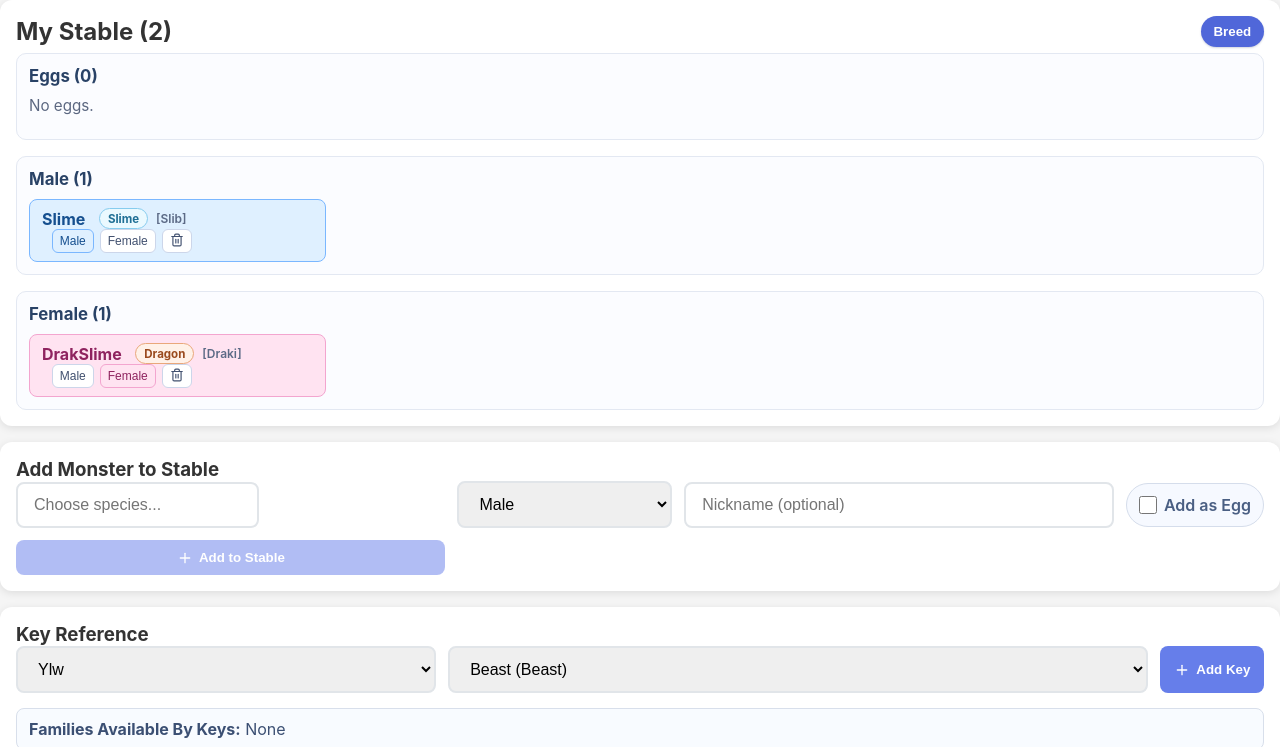
it: MonsterList key family highlighting › confirms breeding by removing parents, adding child egg, and closing the popover
Click the button "Breed".
click(1232, 32)  # box [1201, 16, 1264, 47]
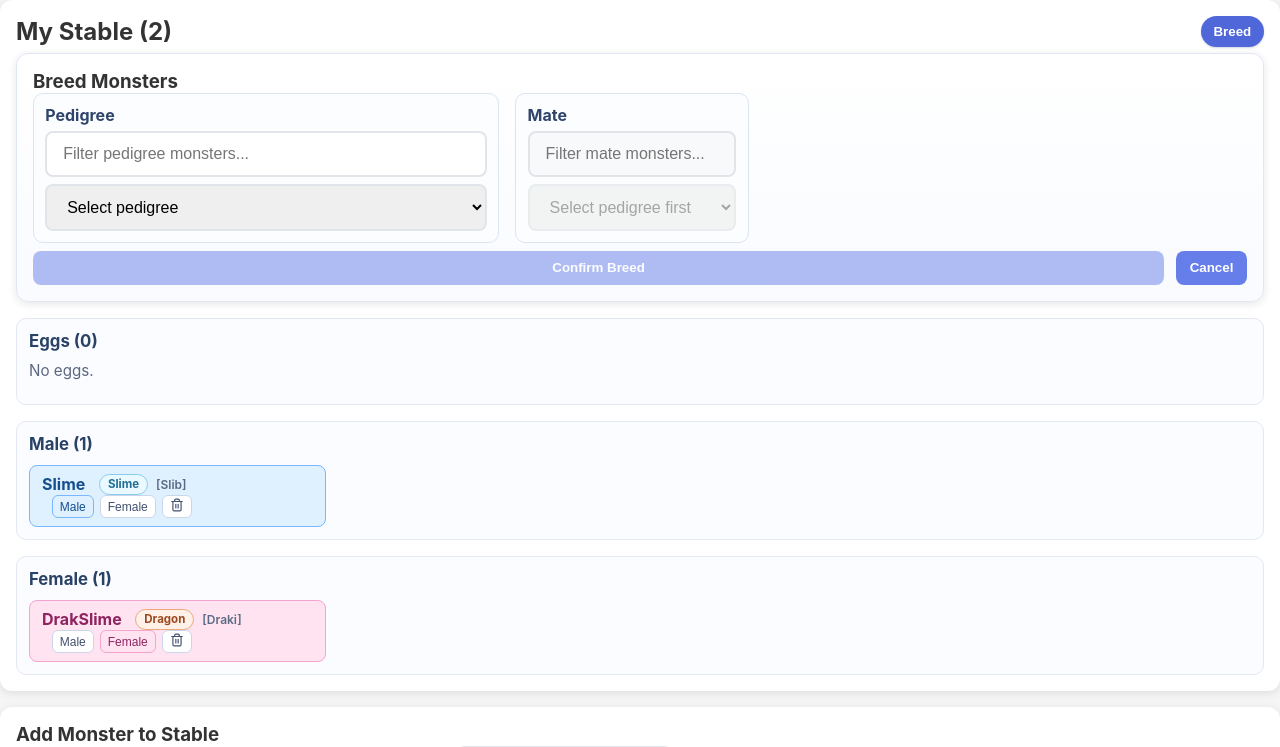
Select "Slime [Slib] (Male)" in the dropdown labelled "Pedigree" at (266, 207), box [45, 184, 487, 231]
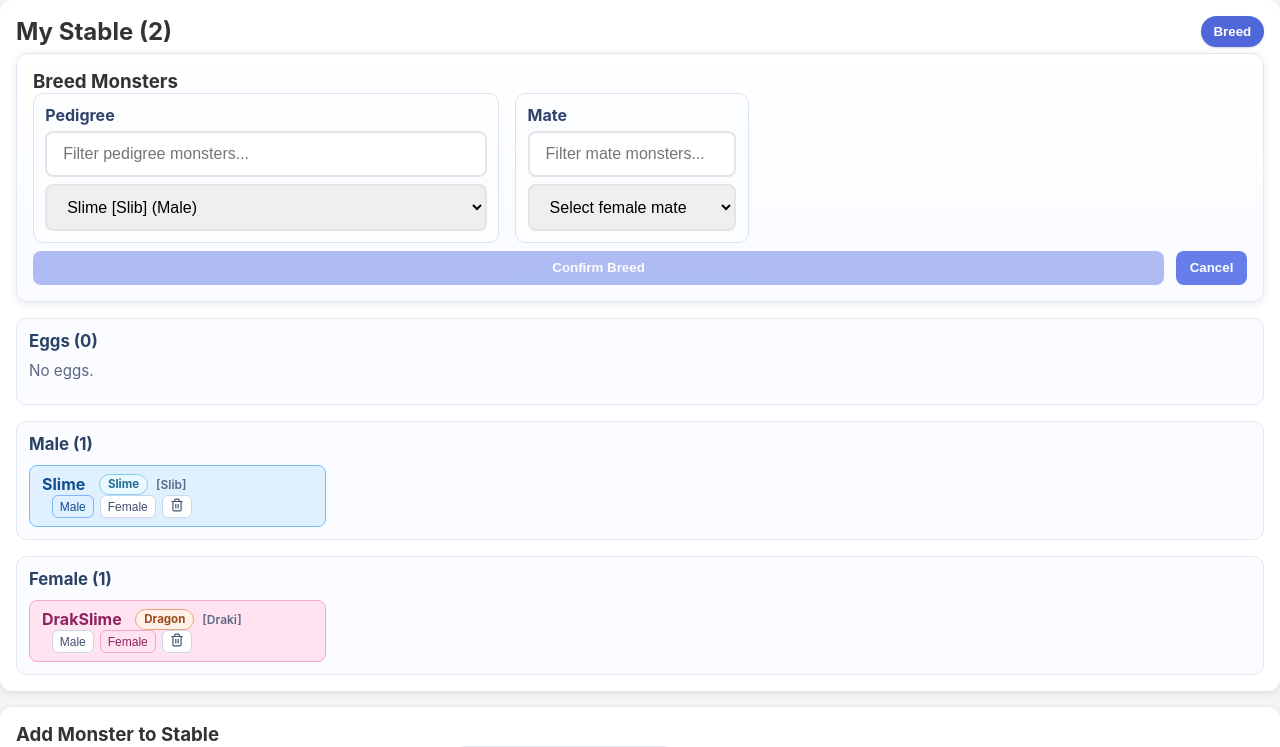
Select "DrakSlime [Draki] (Female)" in the dropdown labelled "Mate" at (632, 207), box [528, 184, 736, 231]
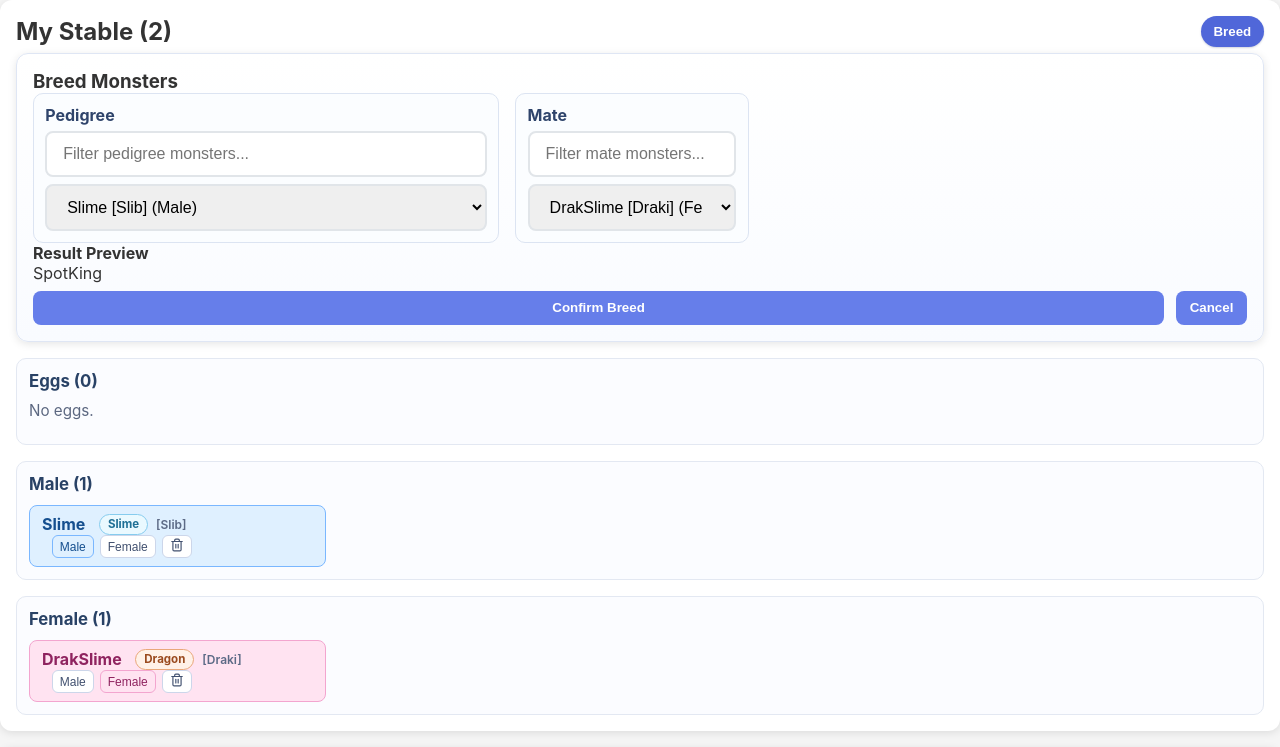
Click the button "Confirm Breed".
click(599, 308)  # box [33, 291, 1164, 325]
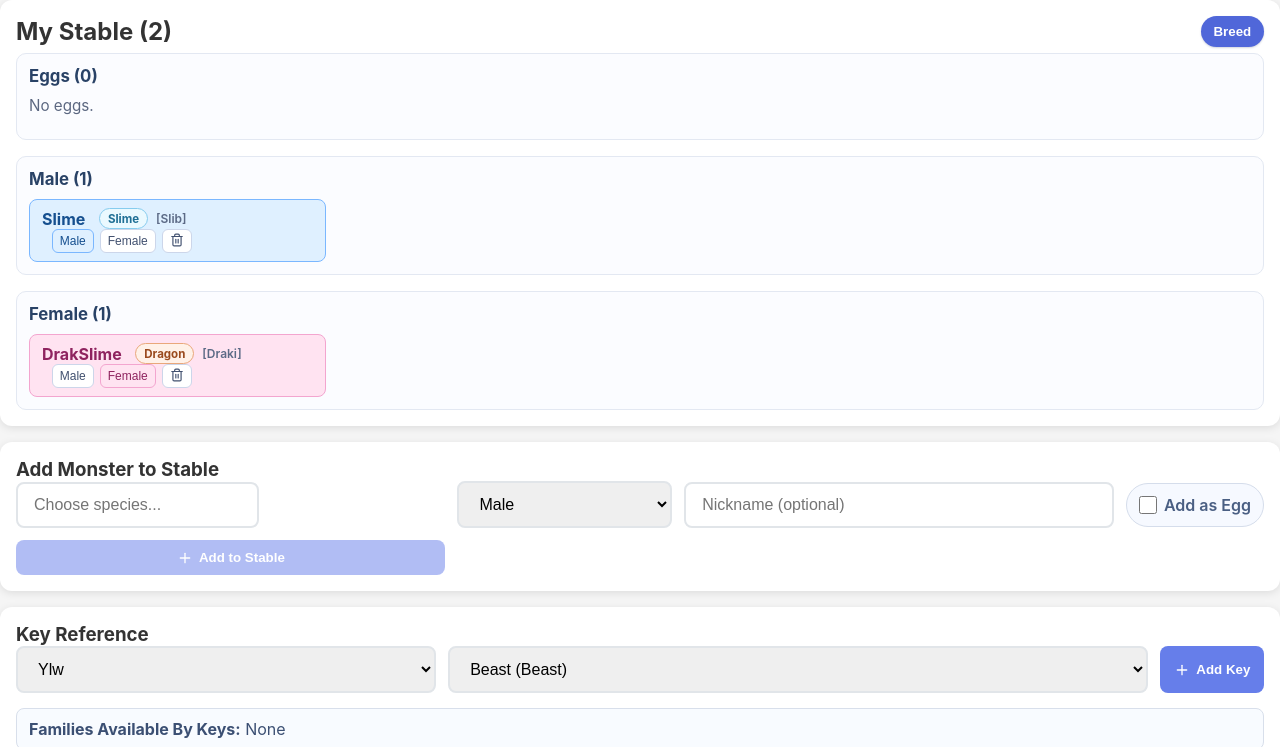
Expected: the heading "Result Preview" is gone
